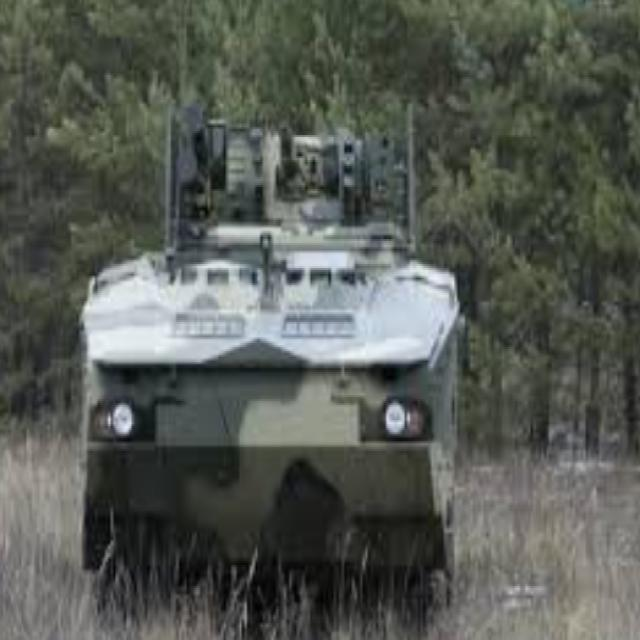MIL_APC: (66, 109, 484, 612)
